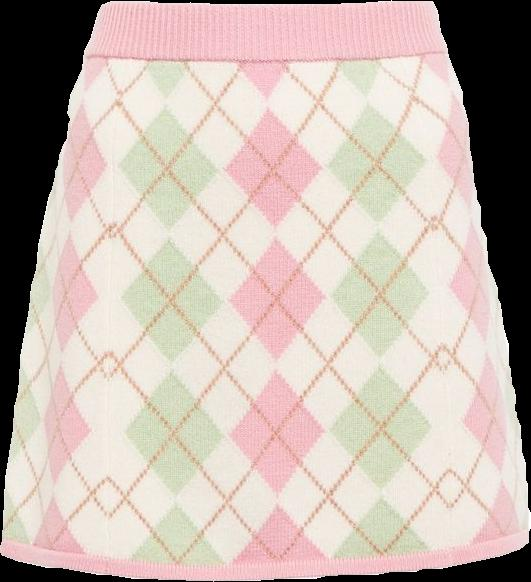Hemline: (0, 538, 530, 581)
Waistline: (79, 45, 448, 66), (100, 0, 435, 10)
